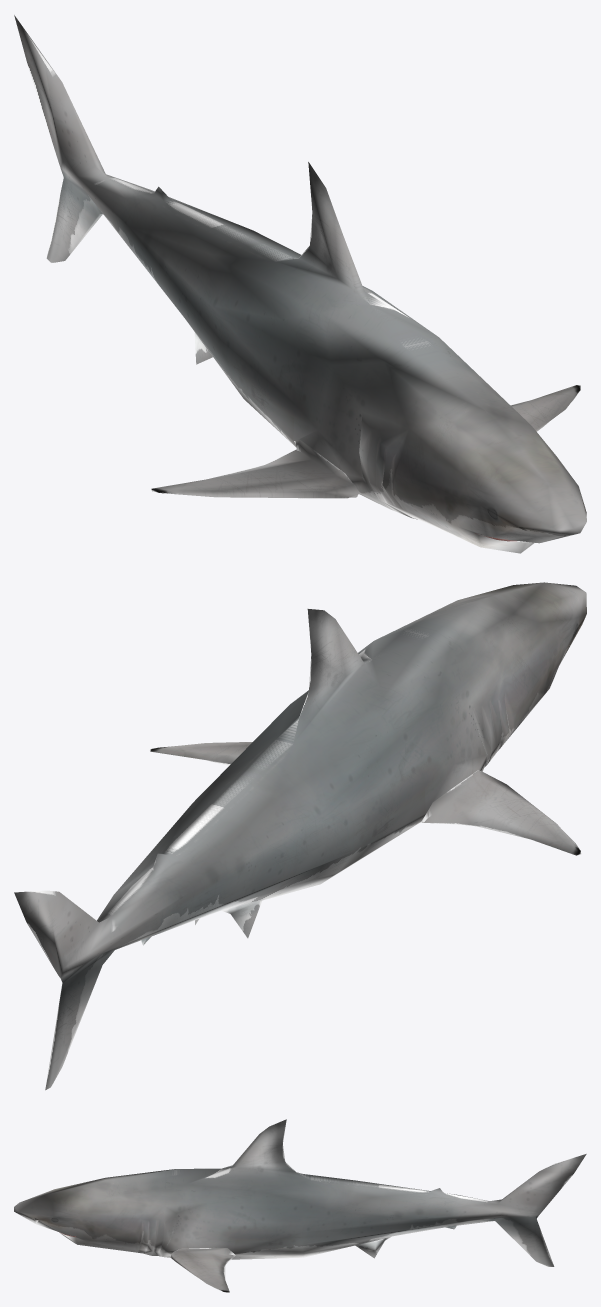
File: fish_shark_low.fbx
3 renders of one model, top to bottom at view 1: azimuth 30°, elevation 25°; view 2: azimuth 150°, elevation 25°; view 3: azimuth 270°, elevation 25°, orthographic. The views are drawn at different scales.
Visible parts, largest first — view 1: fish_shark_low; view 2: fish_shark_low; view 3: fish_shark_low.
Boxes of the visible parts, <box> form: fish_shark_low: <box>14,15,586,553</box>; fish_shark_low: <box>14,582,586,1090</box>; fish_shark_low: <box>14,1119,586,1292</box>.
Bounding box in the file's own units: 1.01 × 0.6515 × 2.29.
